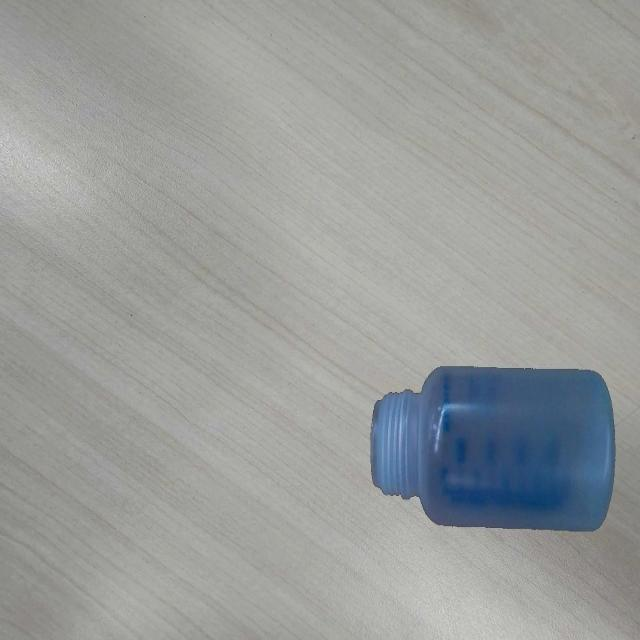bottle: (370, 365, 618, 536)
